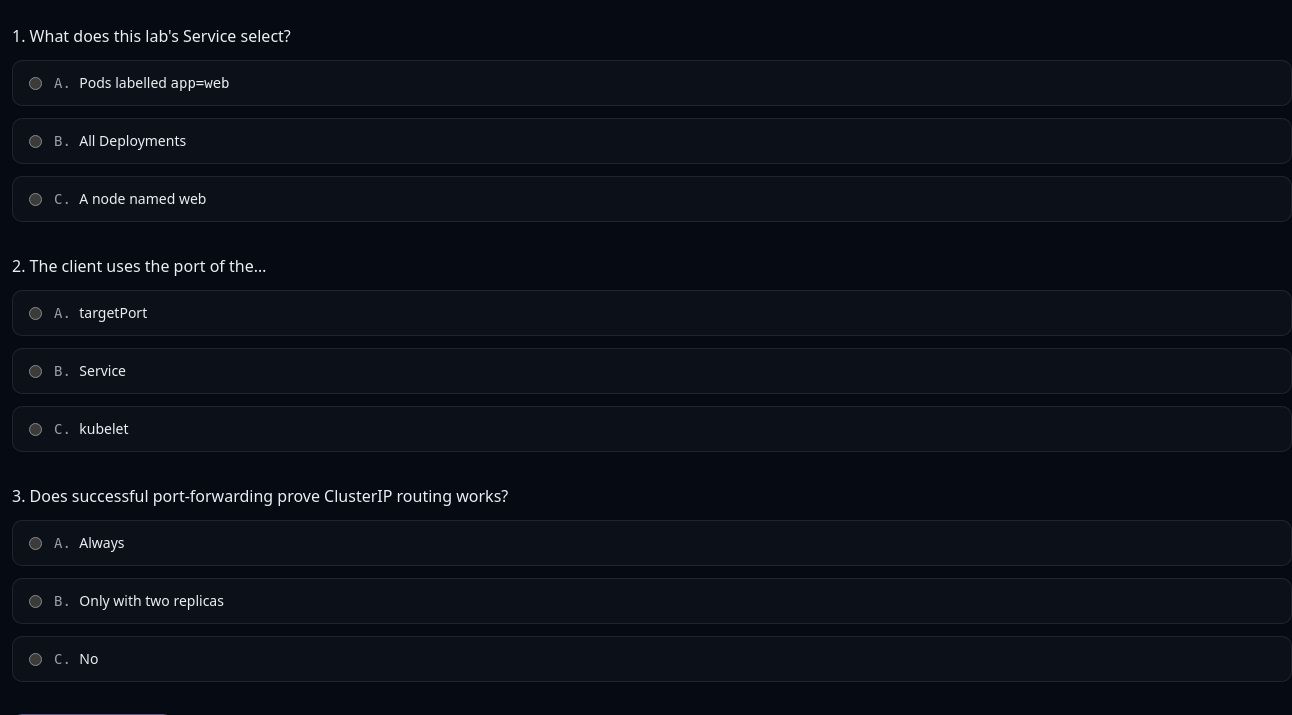
Test: supplied beginner lessons › requires all answers and explicit submission, then allows retry
The width and height of the screenshot is (1292, 715).
Click the radio button labelled "A. Pods labelled app=web" at (36,84), box x1=29 y1=77 x2=42 y2=90
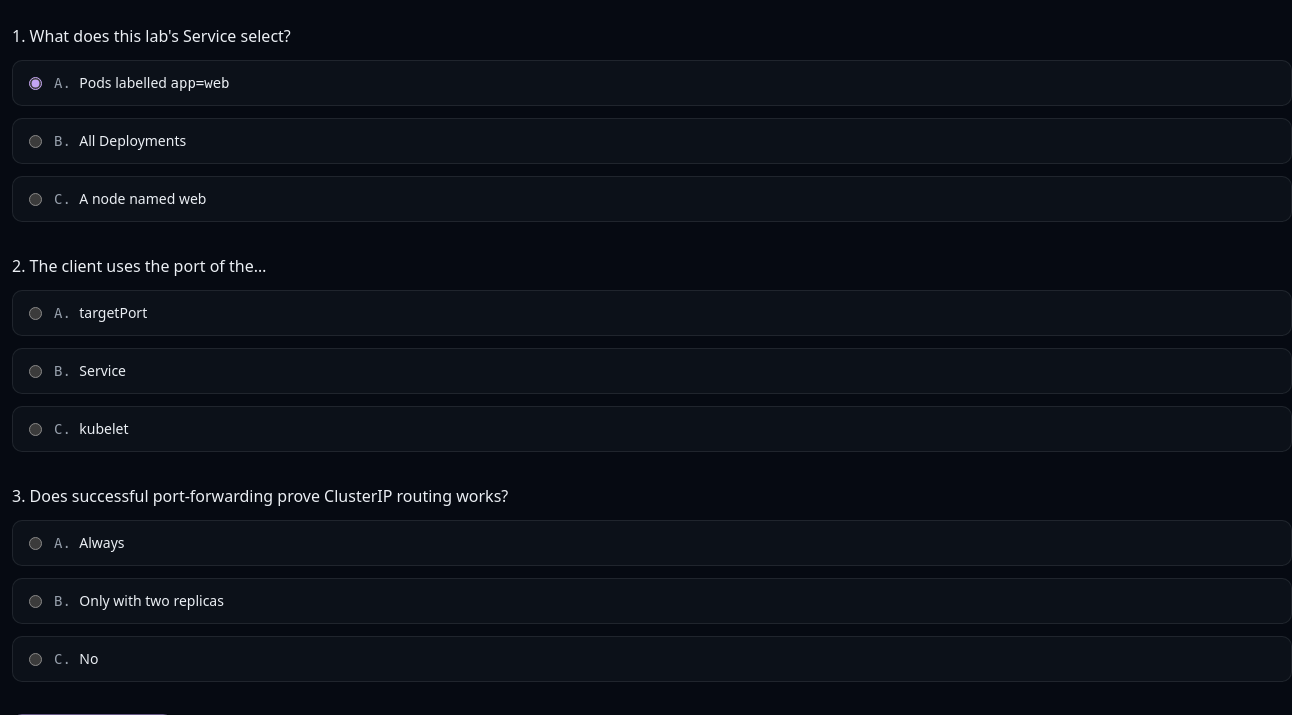
Click the radio button labelled "B. Service" at (36,372), box x1=29 y1=365 x2=42 y2=378
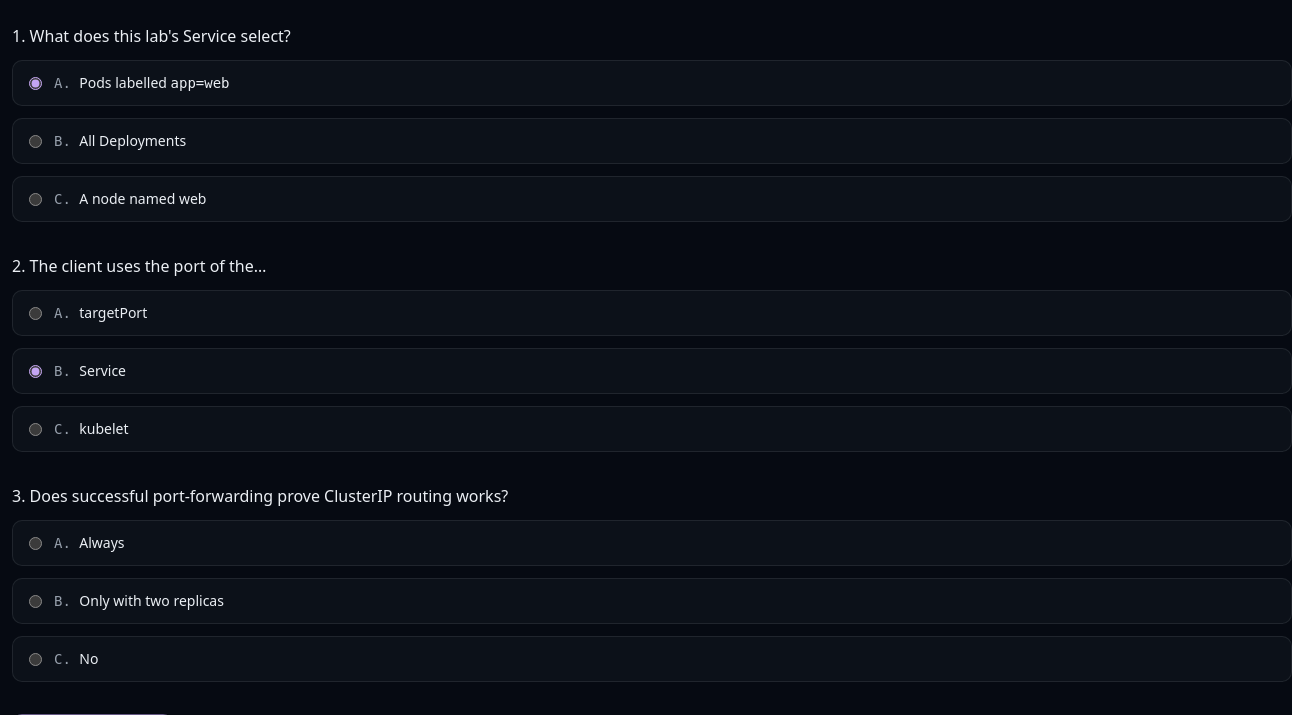
Click the radio button labelled "C. No" at (36,660), box x1=29 y1=653 x2=42 y2=666
(page scrolled)
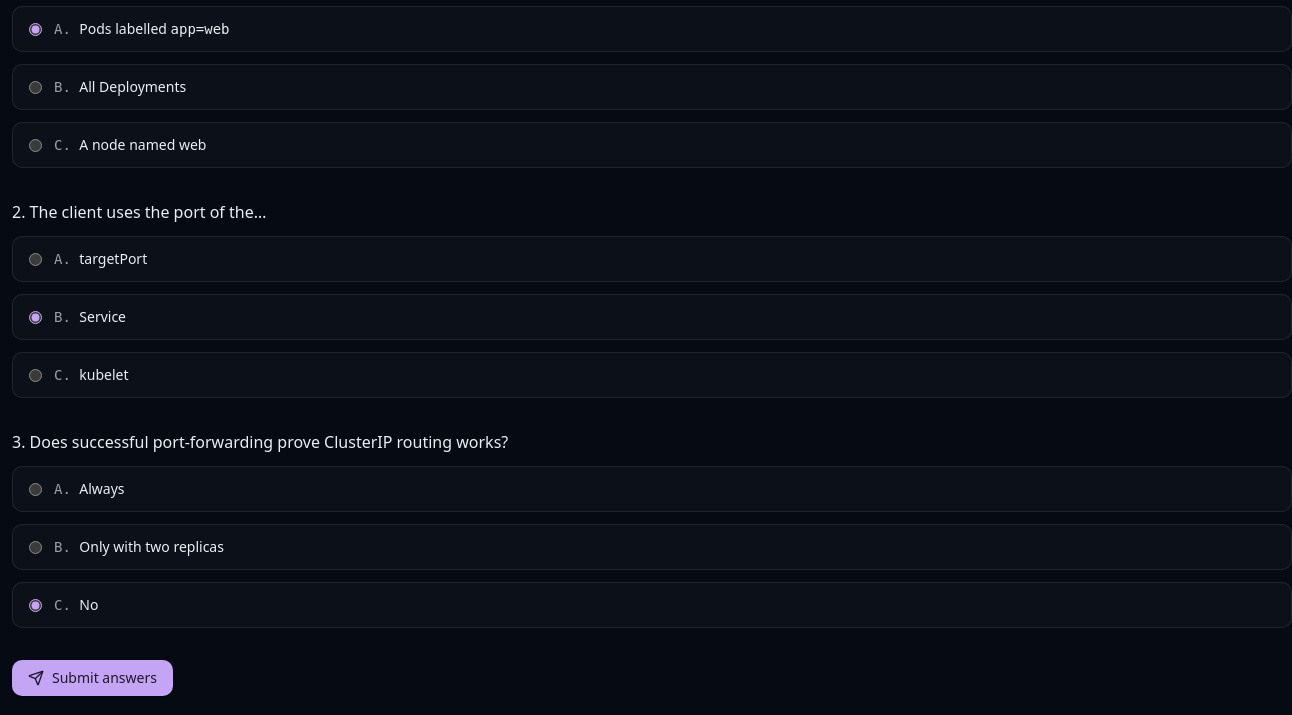
Expected: the text "The selector matches Pod labels within the Service namespace." is not shown
Expected: the button "Submit answers" is enabled
Click the button "Submit answers" at (92,678), box x1=12 y1=660 x2=173 y2=696
(page scrolled)
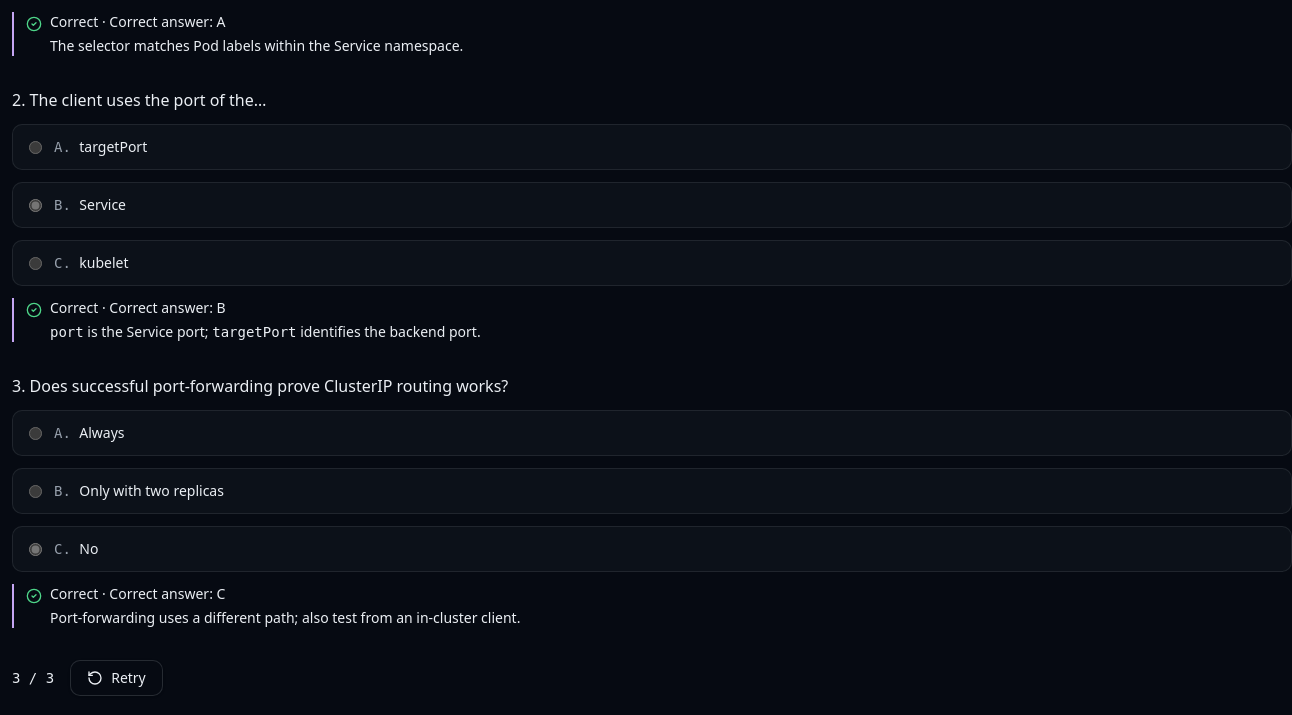
Expected: the text "3 / 3" is shown, x1=12 y1=668 x2=54 y2=688
Click the button "Retry" at (116,678), box x1=70 y1=660 x2=163 y2=696
(page scrolled)
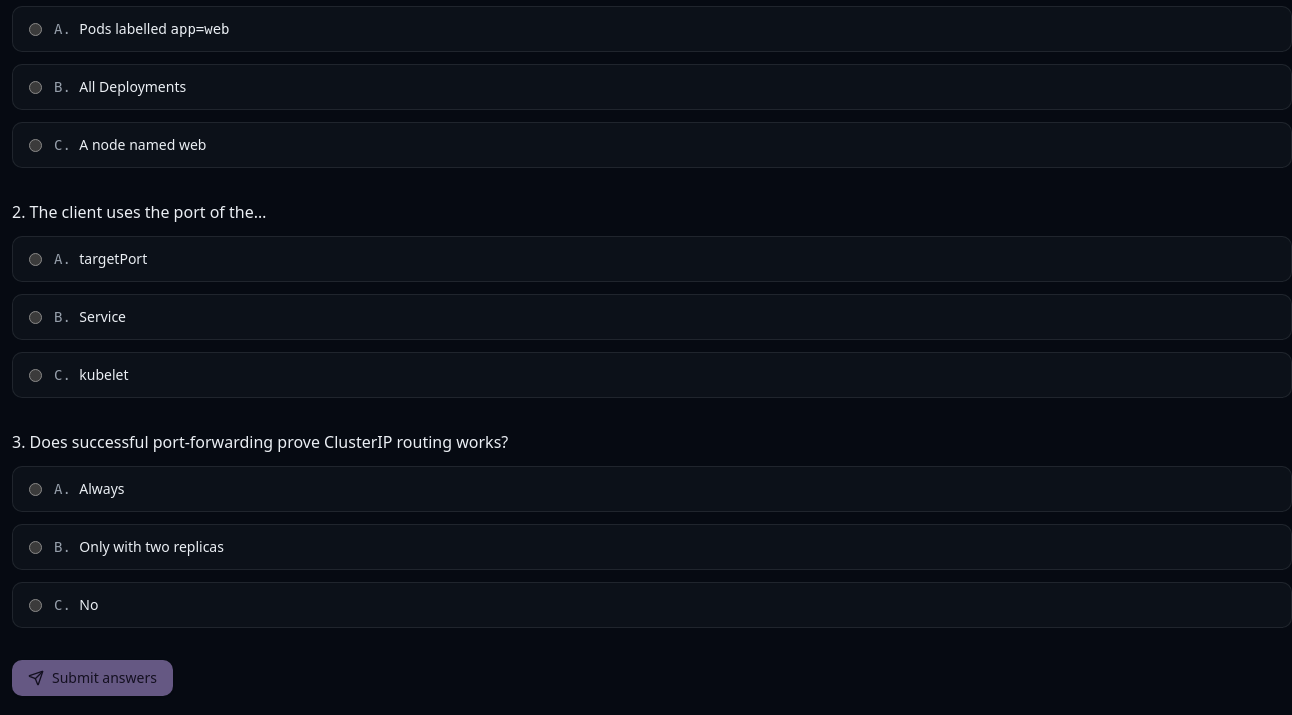
Expected: the button "Submit answers" is disabled, x1=12 y1=660 x2=173 y2=696
